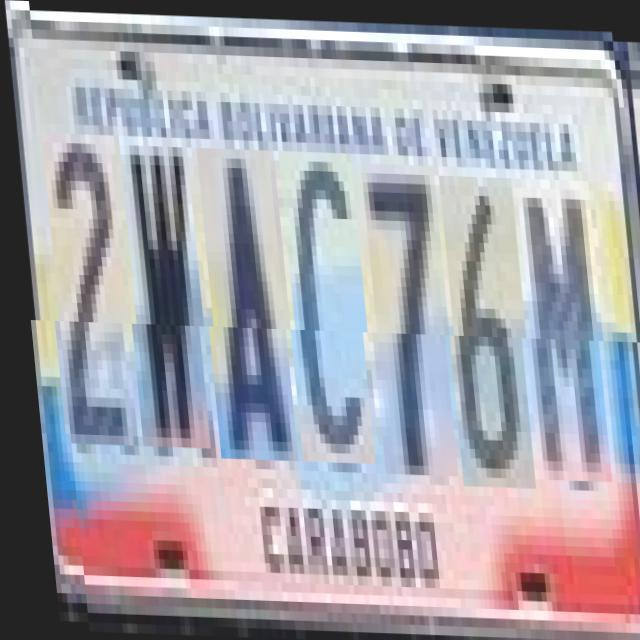2: (39, 133, 130, 445)
6: (436, 172, 532, 486)
7: (358, 160, 453, 474)
A: (193, 146, 294, 460)
C: (276, 149, 372, 462)
M: (512, 175, 608, 478)
W: (116, 135, 207, 447)
